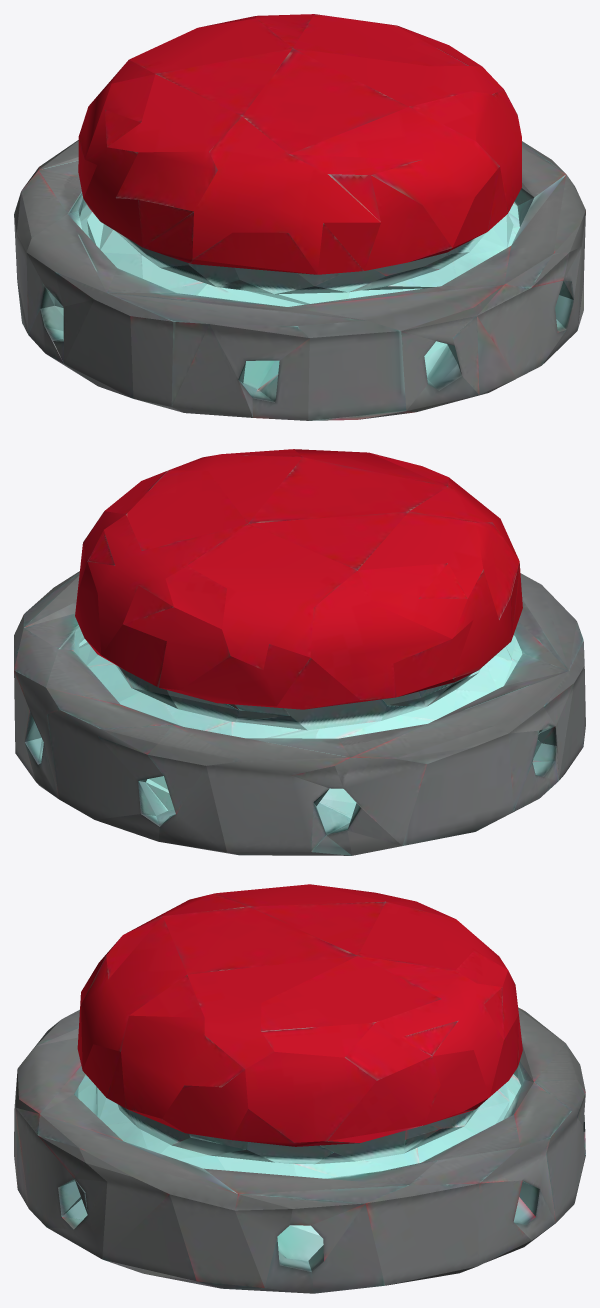
The model's file is switch.glb.
3 renders of one model, top to bottom at view 1: azimuth 30°, elevation 25°; view 2: azimuth 150°, elevation 25°; view 3: azimuth 270°, elevation 25°, orthographic.
Bounding box in the file's own units: 1.9 × 0.849 × 1.9.
Materials: 1 (1 with a texture image).
